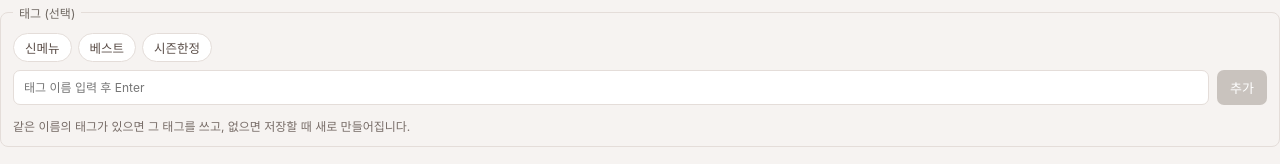
Test: TagPicker › 입력하면 기존 태그 목록이 걸러진다
In the field labelled "태그 이름 입력": (611, 88) [13,70,1209,105], type "시즌"
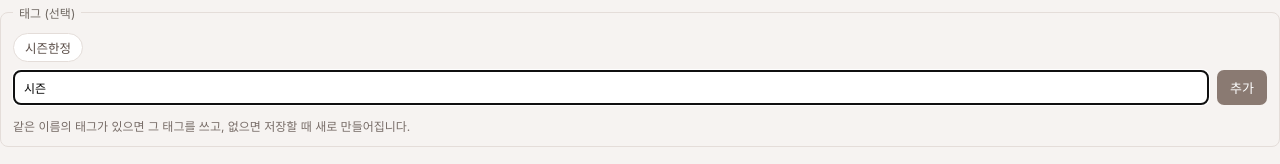
Expected: the button "시즌한정" is shown, [13,33,83,62]
Now the button "베스트" is gone
